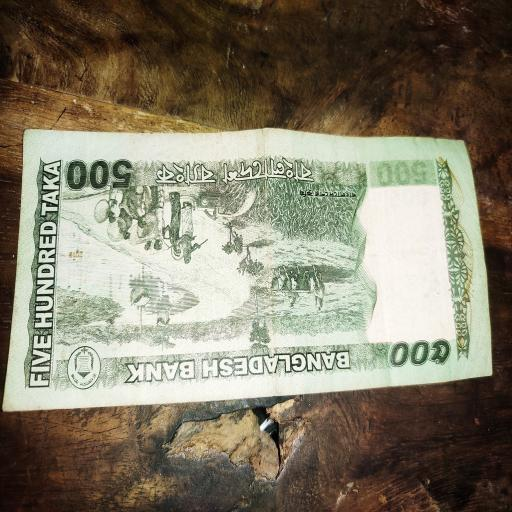500taka: (2, 130, 492, 408)
